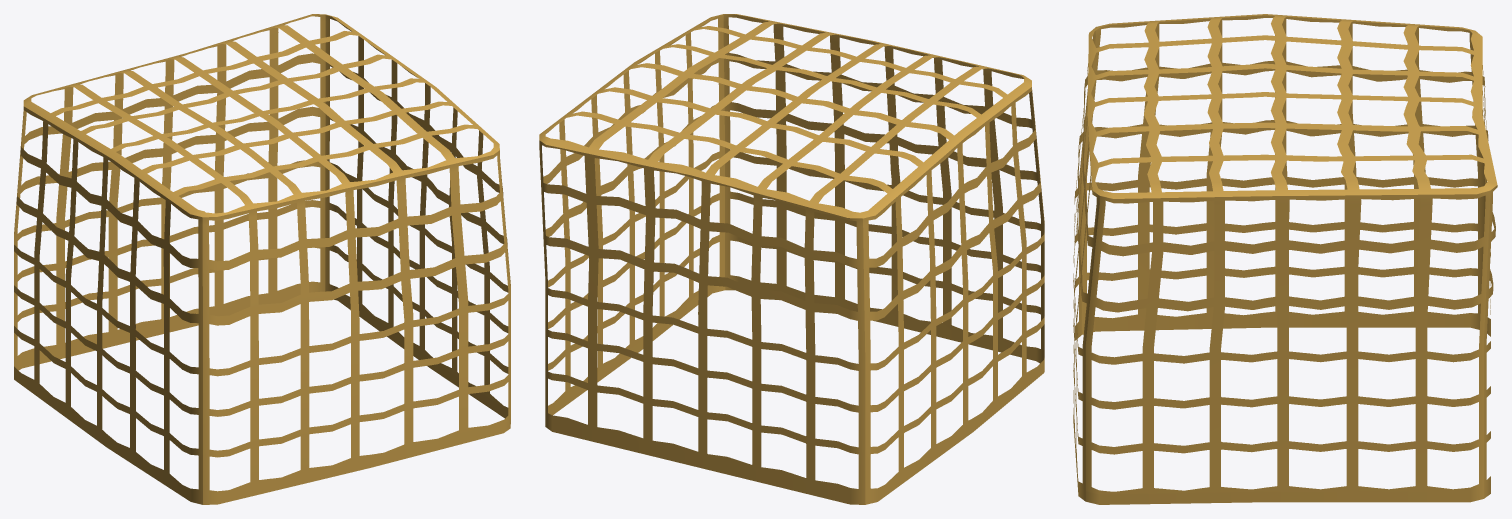
File: SM_Prop_Crate_Stack_Cover_03.glb
3 views of the same model, side by side, from view 1: azimuth 30°, elevation 25°; view 2: azimuth 150°, elevation 25°; view 3: azimuth 270°, elevation 25° (orthographic). The views are drawn at different scales.
Parts seen in each view (by area): view 1: SM_Prop_Crate_Stack_Cover_03; view 2: SM_Prop_Crate_Stack_Cover_03; view 3: SM_Prop_Crate_Stack_Cover_03.
Part boxes in pixels (<box>): SM_Prop_Crate_Stack_Cover_03: <box>14,14,510,504</box>; SM_Prop_Crate_Stack_Cover_03: <box>539,14,1044,504</box>; SM_Prop_Crate_Stack_Cover_03: <box>1073,14,1497,504</box>.
Size of the model in its own units: 1.7 by 1.44 by 1.72.
Materials: 1 (1 with a texture image).
